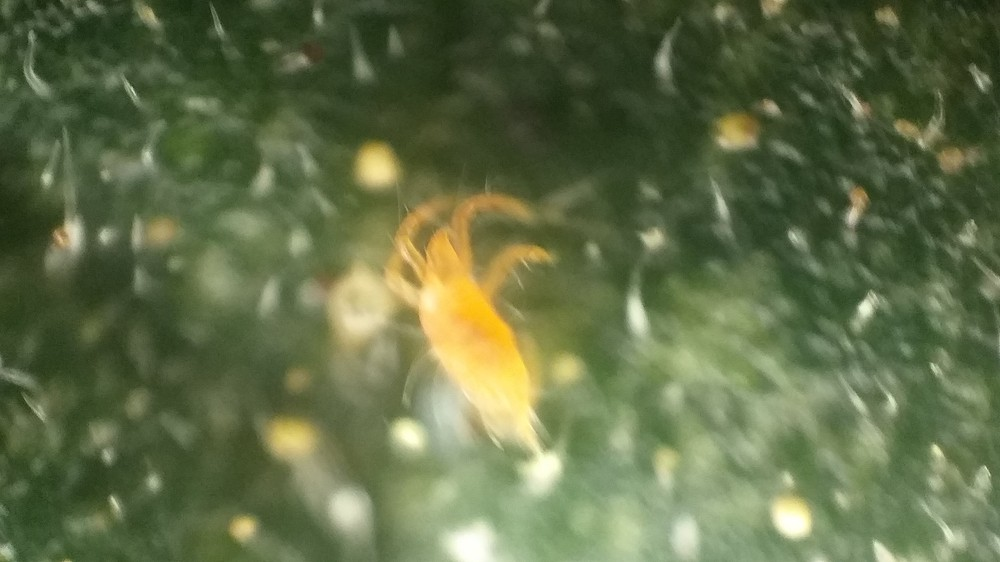Aracnido Rojo: (366, 189, 604, 468)
